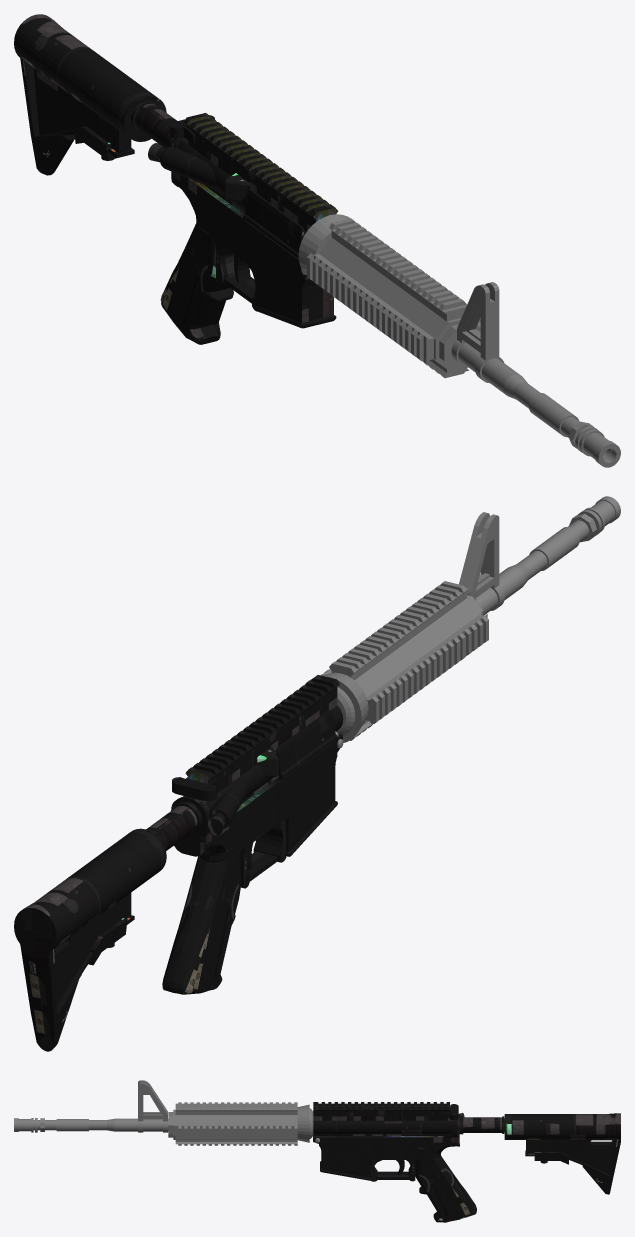
The model's file is M4 Carbine 10k Triangulated Final.FBX.
3 renders of one model, top to bottom at view 1: azimuth 30°, elevation 25°; view 2: azimuth 150°, elevation 25°; view 3: azimuth 270°, elevation 25°, orthographic. The views are drawn at different scales.
Parts seen in each view (by area): view 1: polySurface430, barrel, Stock; view 2: polySurface430, barrel, Stock; view 3: polySurface430, barrel, Stock.
Part boxes in pixels (x1,y1,x2,y2): polySurface430: (148,113,338,344); barrel: (298,214,620,467); Stock: (14,14,177,175); polySurface430: (162,675,343,994); barrel: (304,496,620,742); Stock: (14,801,202,1051); polySurface430: (313,1102,476,1222); barrel: (14,1080,313,1145); Stock: (459,1113,620,1194).
Bounding box in the file's own units: 0.2815 × 0.9732 × 3.87.
